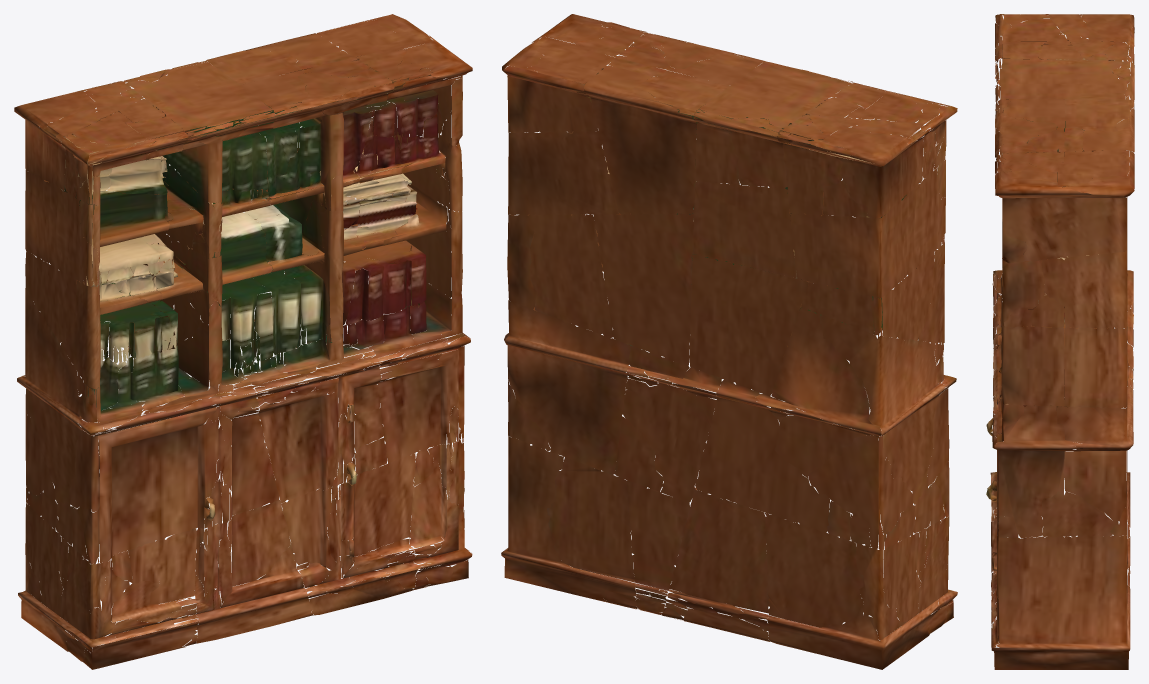
File: tripo-archive.glb
The picture shows the model from 3 angles, left to right: view 1: azimuth 30°, elevation 25°; view 2: azimuth 150°, elevation 25°; view 3: azimuth 270°, elevation 25°; orthographic projection. The views are drawn at different scales.
Visible parts, largest first — view 1: tripo_node_425ec1d0-6d25-4bb0-9017-fb8c9cd5c182; view 2: tripo_node_425ec1d0-6d25-4bb0-9017-fb8c9cd5c182; view 3: tripo_node_425ec1d0-6d25-4bb0-9017-fb8c9cd5c182.
Part boxes in pixels (x1=…): tripo_node_425ec1d0-6d25-4bb0-9017-fb8c9cd5c182: x1=14, y1=14, x2=472, y2=669; tripo_node_425ec1d0-6d25-4bb0-9017-fb8c9cd5c182: x1=501, y1=14, x2=957, y2=669; tripo_node_425ec1d0-6d25-4bb0-9017-fb8c9cd5c182: x1=986, y1=14, x2=1134, y2=669.
Size of the model in its own units: 0.7715 by 0.9804 by 0.273.
Materials: 1 (1 with a texture image).
